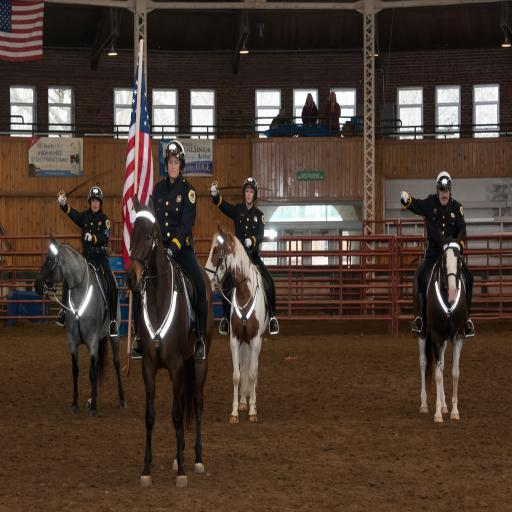Horse: (124, 189, 217, 494), (33, 232, 127, 418), (203, 214, 270, 424), (410, 228, 470, 424)
